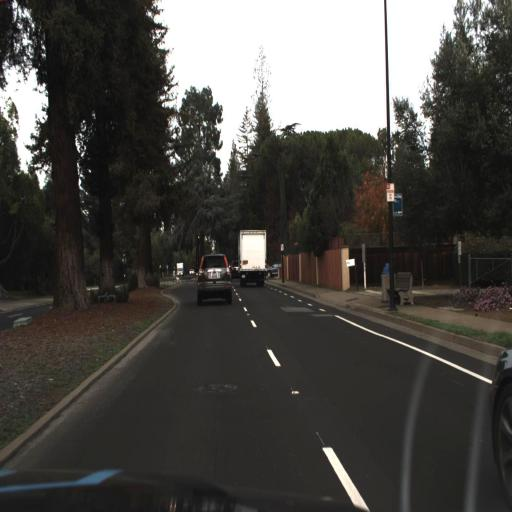car: (193, 244, 236, 315), (233, 224, 273, 290), (188, 268, 194, 276)
truck: (238, 225, 270, 284), (176, 261, 183, 280)
